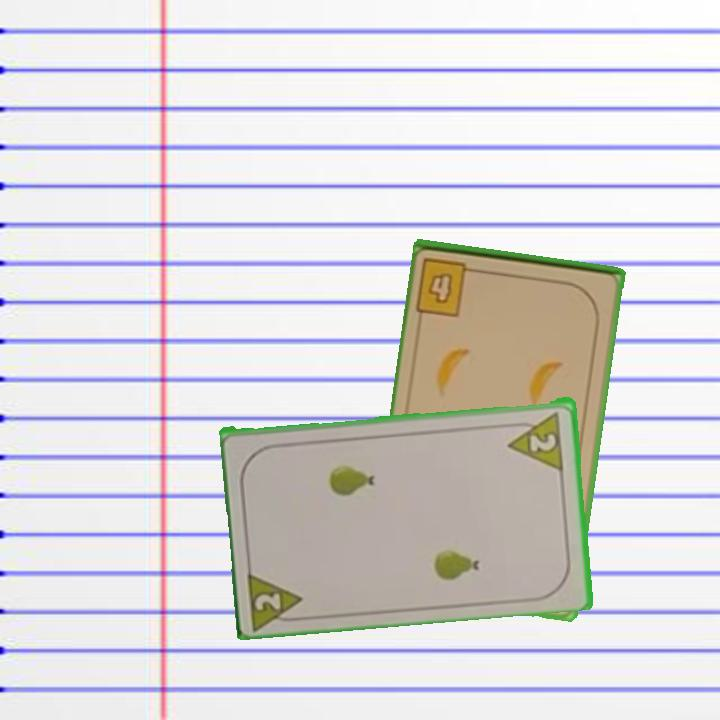2p: (244, 565, 309, 630), (504, 408, 567, 471)
4b: (413, 253, 484, 319)
